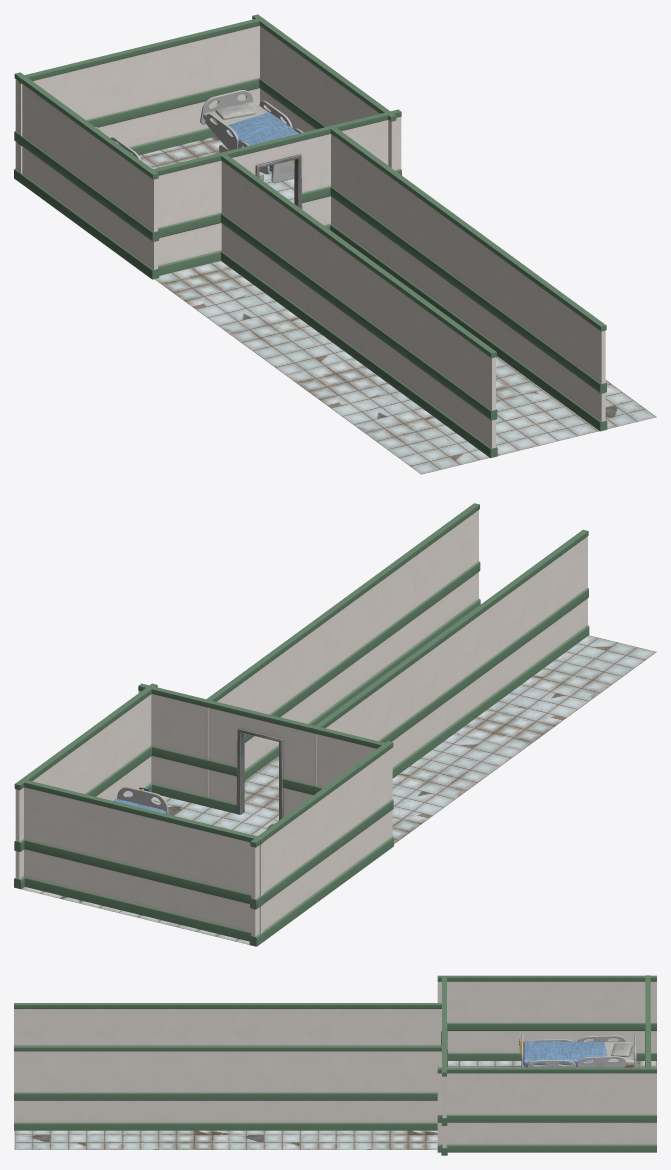
File: Level.glb
3 renders of one model, top to bottom at view 1: azimuth 30°, elevation 25°; view 2: azimuth 150°, elevation 25°; view 3: azimuth 270°, elevation 25°, orthographic. The views are drawn at different scales.
Parts seen in each view (by area): view 1: Tile_Wall.006, Tile_Wall.005, Tile_Wall, Plane.002, Tile_Wall.002, Plane.001, Tile_Wall.001, Tile_Wall.003, Bed, Tile_Wall_Doorway_1, Tile_Wall.004, Plane; view 2: Tile_Wall.006, Tile_Wall, Tile_Wall.005, Tile_Wall.002, Plane.002, Tile_Wall.001, Plane.001, Tile_Wall.004, Tile_Wall_Doorway_1, Tile_Wall.003, Plane, Bed; view 3: Tile_Wall.006, Tile_Wall.005, Tile_Wall.001, Tile_Wall.002, Plane.002, Plane.001, Bed.001, Plane, Tile_Wall.004, Tile_Wall.
Part boxes in pixels (left/top/right/bottom): Tile_Wall.006: left=352, top=224, right=607, bottom=458; Tile_Wall.005: left=218, top=125, right=470, bottom=356; Tile_Wall: left=18, top=18, right=260, bottom=174; Plane.002: left=285, top=356, right=656, bottom=474; Tile_Wall.002: left=14, top=72, right=159, bottom=279; Plane.001: left=154, top=261, right=353, bottom=374; Tile_Wall.001: left=252, top=14, right=396, bottom=170; Tile_Wall.003: left=153, top=149, right=238, bottom=275; Bed: left=200, top=90, right=303, bottom=183; Tile_Wall_Doorway_1: left=236, top=129, right=318, bottom=220; Tile_Wall.004: left=316, top=109, right=401, bottom=229; Plane: left=139, top=136, right=294, bottom=203; Tile_Wall.006: left=337, top=503, right=589, bottom=734; Tile_Wall: left=23, top=780, right=263, bottom=941; Tile_Wall.005: left=203, top=601, right=455, bottom=797; Tile_Wall.002: left=249, top=741, right=393, bottom=946; Plane.002: left=455, top=635, right=656, bottom=750; Tile_Wall.001: left=14, top=683, right=157, bottom=889; Plane.001: left=244, top=733, right=522, bottom=843; Tile_Wall.004: left=138, top=683, right=223, bottom=809; Tile_Wall_Doorway_1: left=221, top=703, right=302, bottom=820; Tile_Wall.003: left=299, top=723, right=384, bottom=804; Plane: left=21, top=795, right=278, bottom=944; Bed: left=114, top=786, right=168, bottom=814; Tile_Wall.006: left=14, top=1003, right=233, bottom=1130; Tile_Wall.005: left=227, top=1003, right=446, bottom=1130; Tile_Wall.001: left=437, top=1067, right=656, bottom=1152; Tile_Wall.002: left=437, top=975, right=656, bottom=1060; Plane.002: left=14, top=1130, right=230, bottom=1149; Plane.001: left=228, top=1130, right=437, bottom=1149; Bed.001: left=519, top=1034, right=636, bottom=1067; Plane: left=448, top=1061, right=656, bottom=1067; Tile_Wall.004: left=441, top=1040, right=447, bottom=1155; Tile_Wall: left=645, top=975, right=651, bottom=1067.
Bounding box in the file's own units: 6.3 × 2.55 × 17.59.
Materials: 4 (4 with a texture image).
